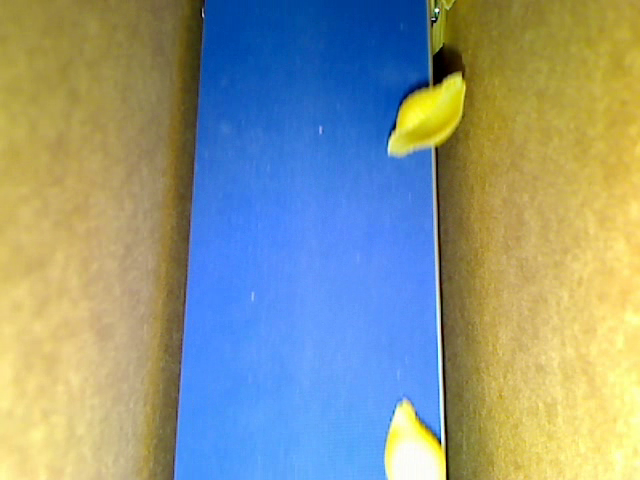penne: (430, 1, 446, 57), (439, 1, 456, 14)
shell: (385, 70, 467, 157), (379, 395, 447, 479)
